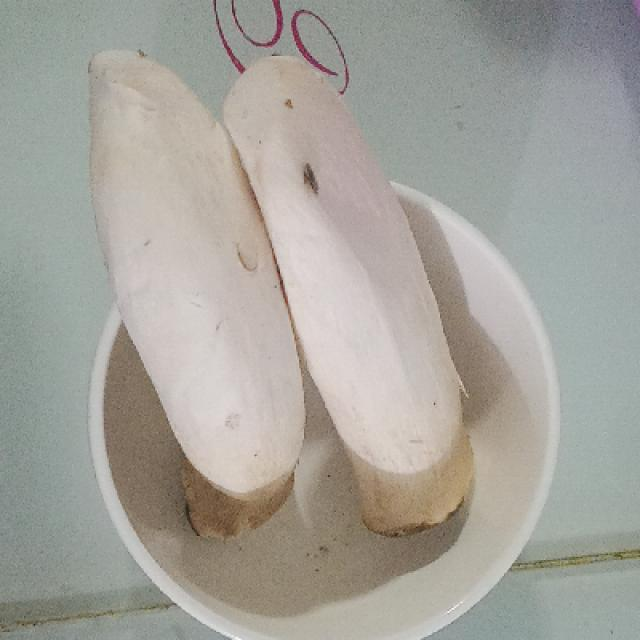Pleurotus eryngii: (224, 58, 473, 536), (85, 48, 306, 537)
